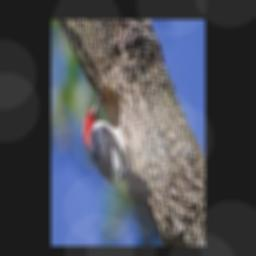Woodpecker: (83, 94, 150, 213)
